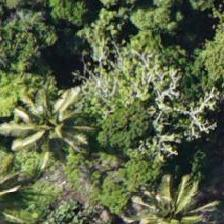coconut_tree: (4, 72, 94, 162), (126, 172, 216, 223)
